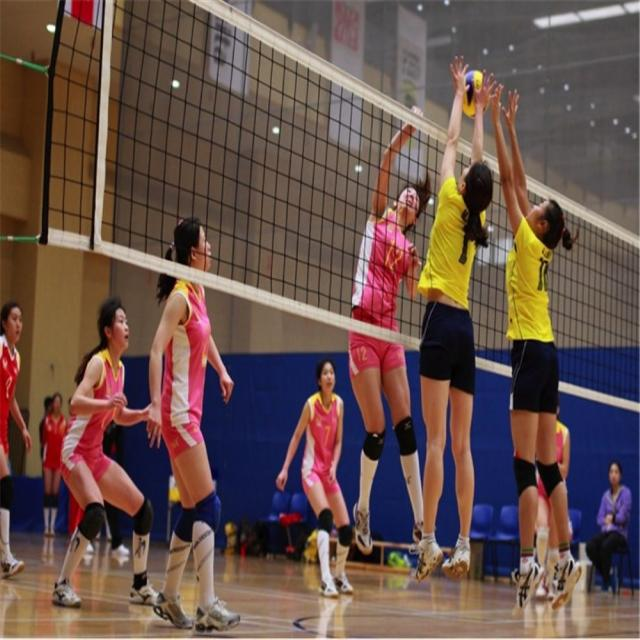body: (487, 81, 586, 619), (408, 52, 502, 585), (144, 214, 246, 634), (53, 294, 161, 616), (348, 100, 423, 557), (274, 357, 355, 599), (0, 296, 34, 582), (535, 394, 572, 600), (584, 457, 635, 600), (40, 391, 68, 538), (39, 396, 54, 460)
